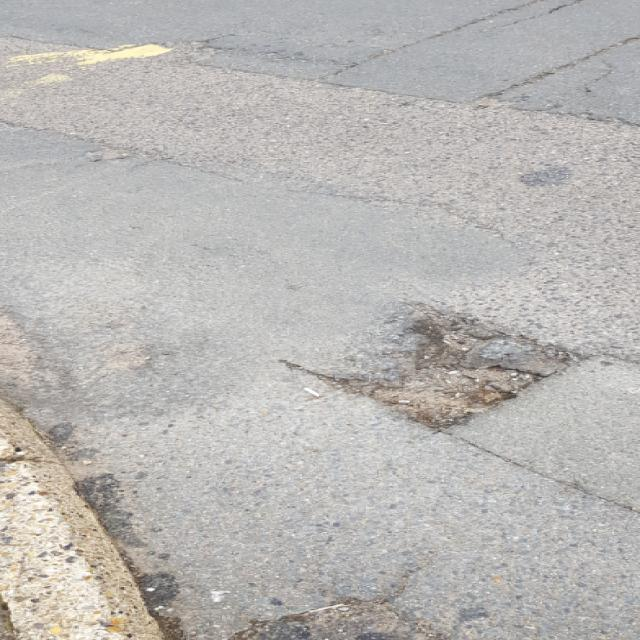pothole: (292, 298, 599, 432)
